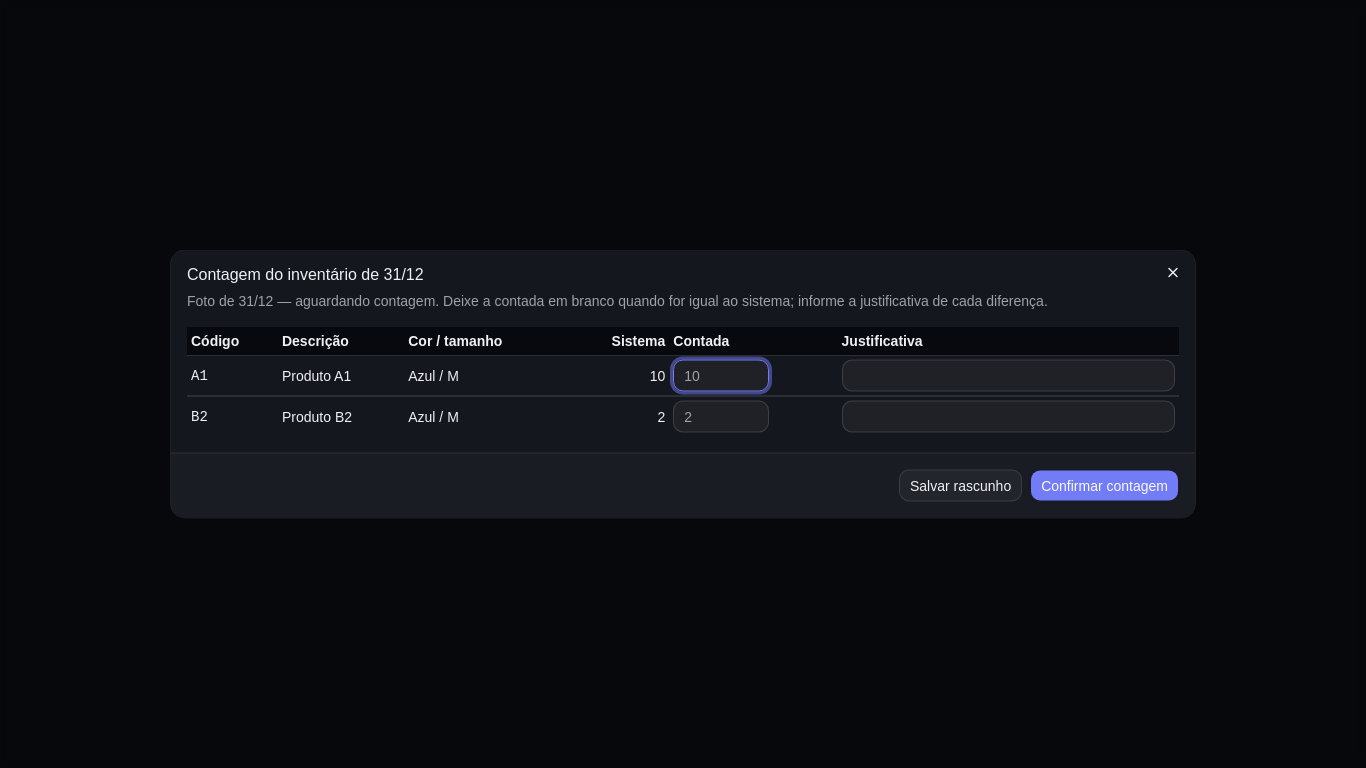
Scenario: DialogContagemInventario › 409 mostra a mensagem exata
The image size is (1366, 768).
Click the button "Salvar rascunho": (961, 486) [899,470,1022,502]
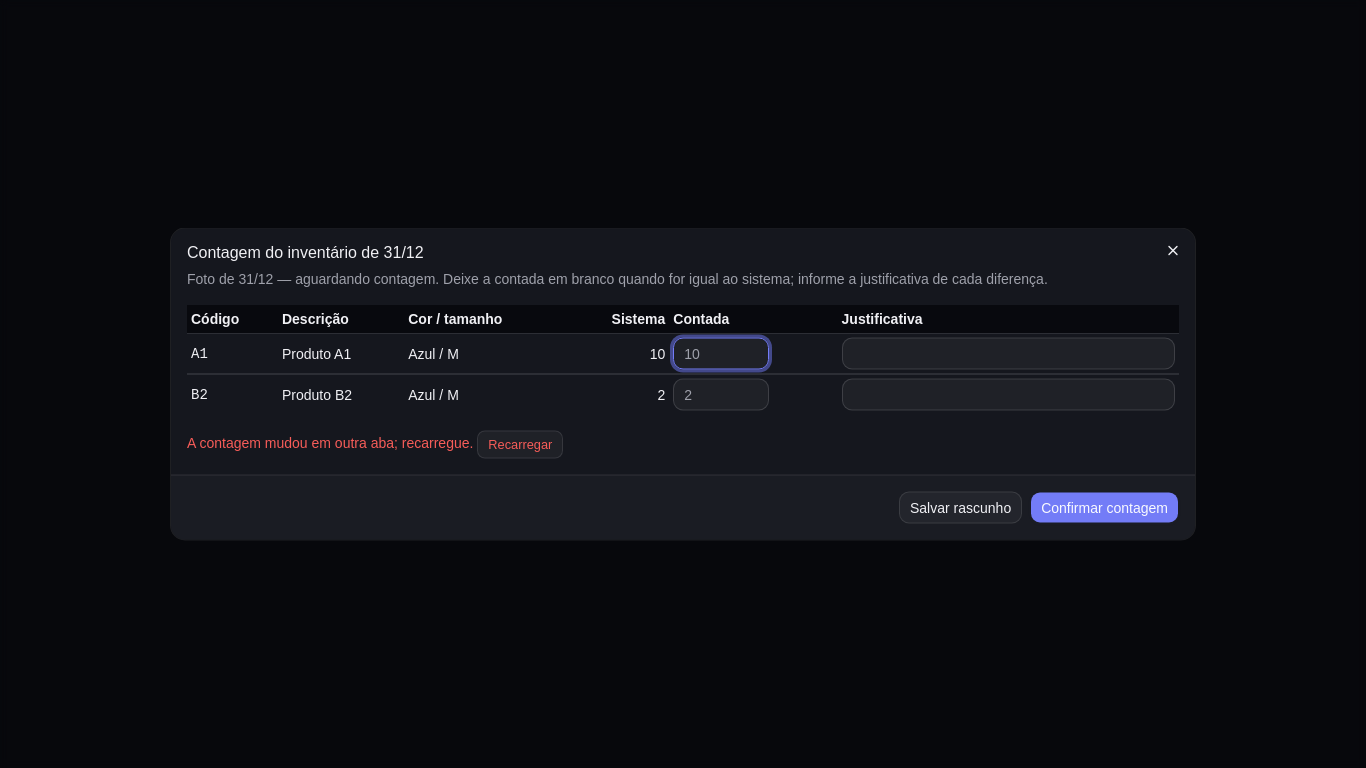
Result: the text "A contagem mudou em outra aba; recarregue. Recarregar" is shown at [187,430,563,458]
